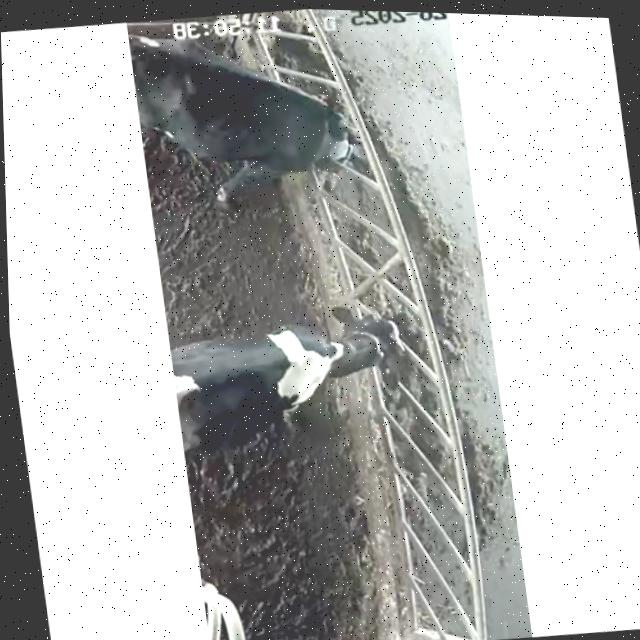eat: (287, 270, 468, 419), (237, 76, 428, 207)
